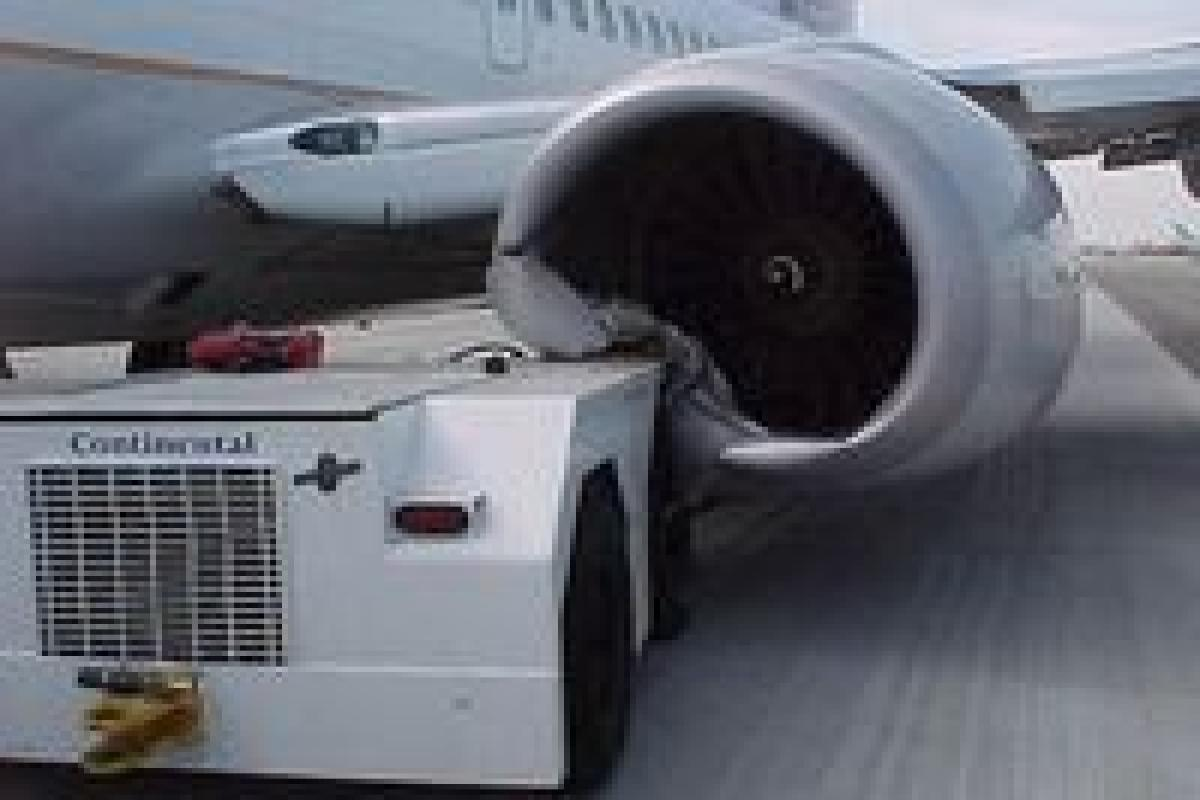Fuselage_damage: (460, 214, 781, 504)
